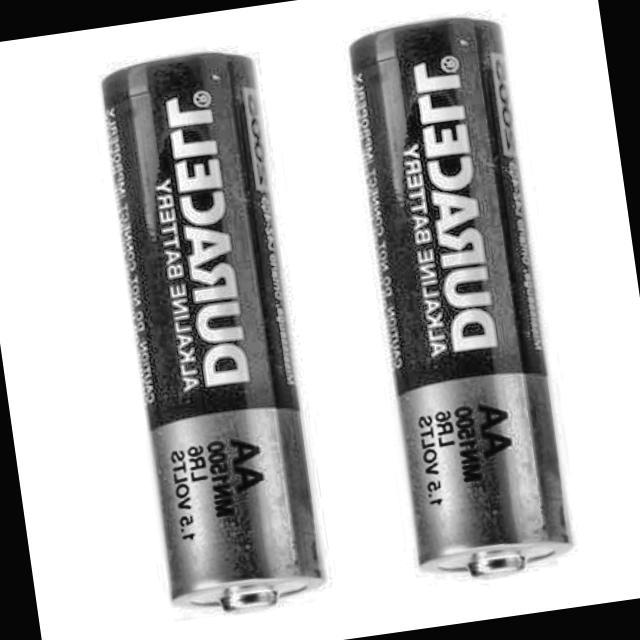drycell: (339, 4, 585, 590), (92, 39, 335, 628)
